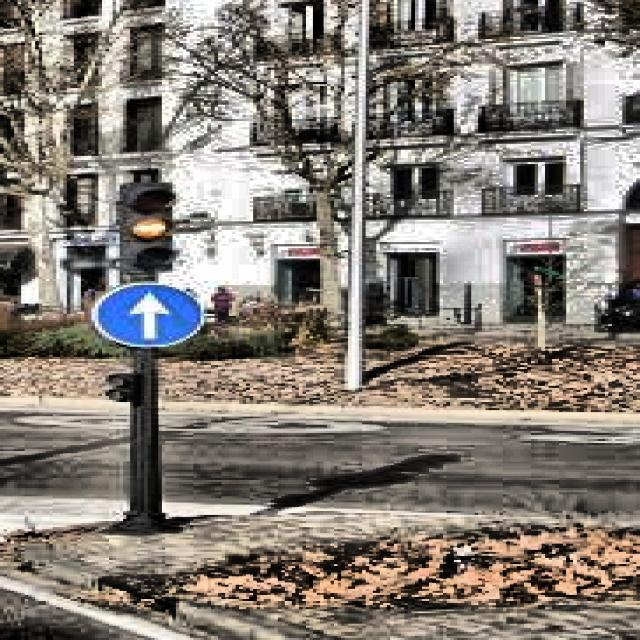yellow: (126, 180, 172, 270)
